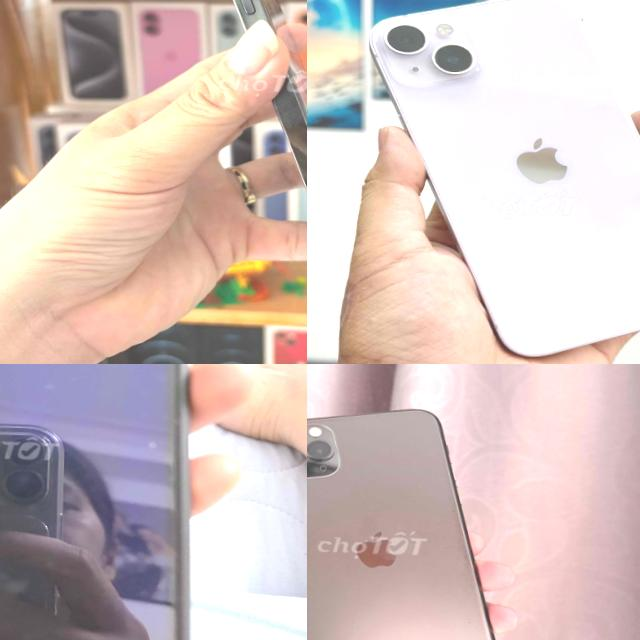gen_11: (307, 402, 518, 640)
gen_12_13: (0, 364, 217, 640), (167, 0, 307, 260)
gen_14: (350, 0, 640, 364)
